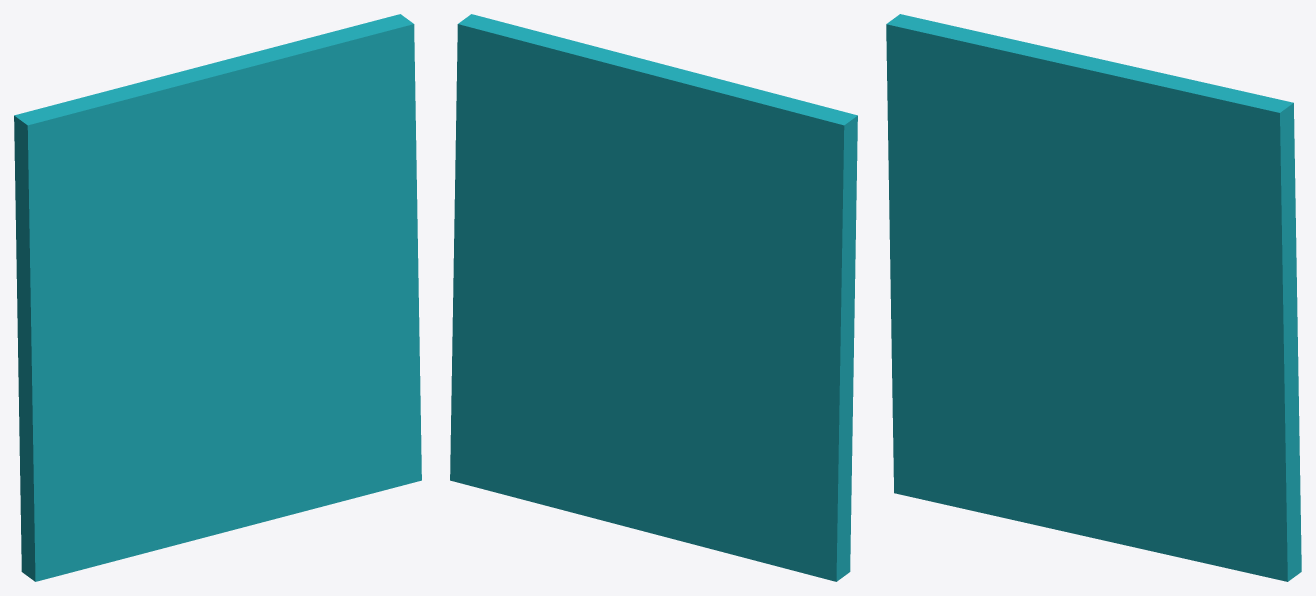
Rendered from ds_sample_430675d0.glb.
3 renders of one model, left to right at view 1: azimuth 30°, elevation 25°; view 2: azimuth 150°, elevation 25°; view 3: azimuth 330°, elevation 25°, orthographic.
Parts seen in each view (by area): view 1: OSM-BUILDING-WAY-101; view 2: OSM-BUILDING-WAY-101; view 3: OSM-BUILDING-WAY-101.
Part boxes in pixels (<box>): OSM-BUILDING-WAY-101: <box>14,14,421,581</box>; OSM-BUILDING-WAY-101: <box>450,14,857,581</box>; OSM-BUILDING-WAY-101: <box>886,14,1301,581</box>.
Bounding box in the file's own units: 199 × 225 × 12.
